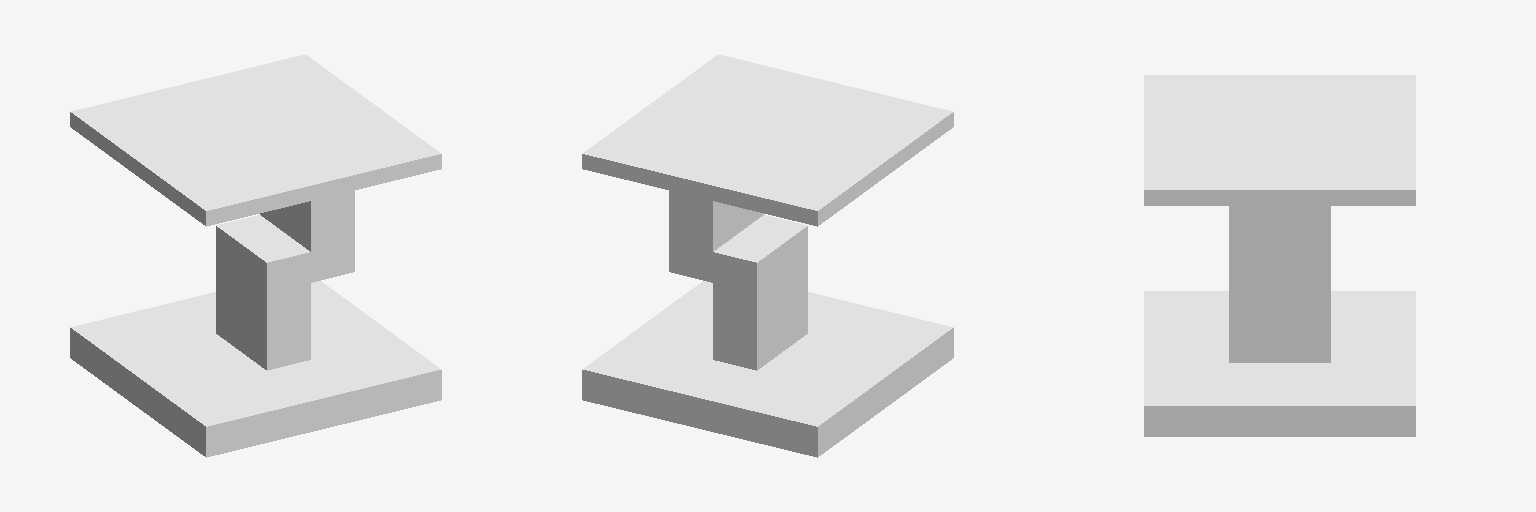
Rendered from ml_colorconverter_simplified.obj.
The picture shows the model from 3 angles: view 1: azimuth 30°, elevation 25°; view 2: azimuth 150°, elevation 25°; view 3: azimuth 270°, elevation 25°; orthographic projection.
Parts seen in each view (by area): view 1: ml_colorconverter.001; view 2: ml_colorconverter.001; view 3: ml_colorconverter.001.
Part boxes in pixels (x1,y1,x2,y2): ml_colorconverter.001: (70, 54, 441, 457); ml_colorconverter.001: (582, 54, 953, 457); ml_colorconverter.001: (1144, 75, 1415, 436).
Size of the model in its own units: 0.8 by 0.8 by 0.8.